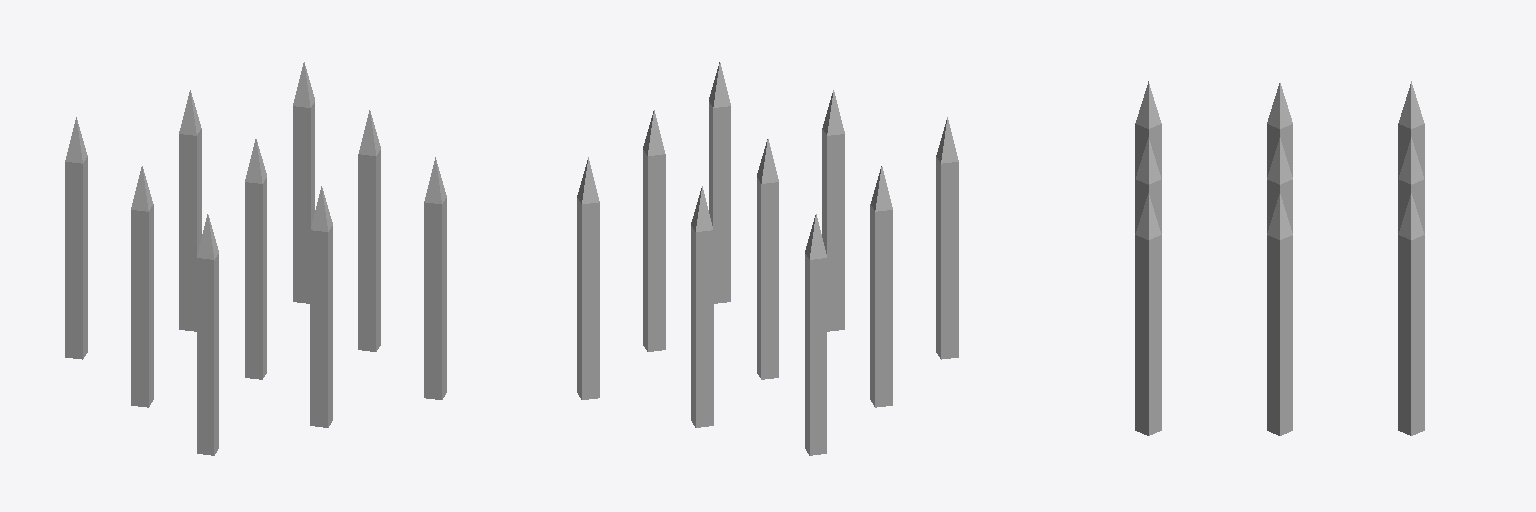
File: floor_tile_big_spikes_spikes.obj
3 renders of one model, left to right at view 1: azimuth 30°, elevation 25°; view 2: azimuth 150°, elevation 25°; view 3: azimuth 270°, elevation 25°, orthographic.
Visible parts, largest first — view 1: spikes; view 2: spikes; view 3: spikes.
Part boxes in pixels (x1,y1,x2,y2): spikes: (65,62,446,455); spikes: (577,62,958,455); spikes: (1135,81,1424,435).
Bounding box in the file's own units: 2.2 × 2 × 2.2.